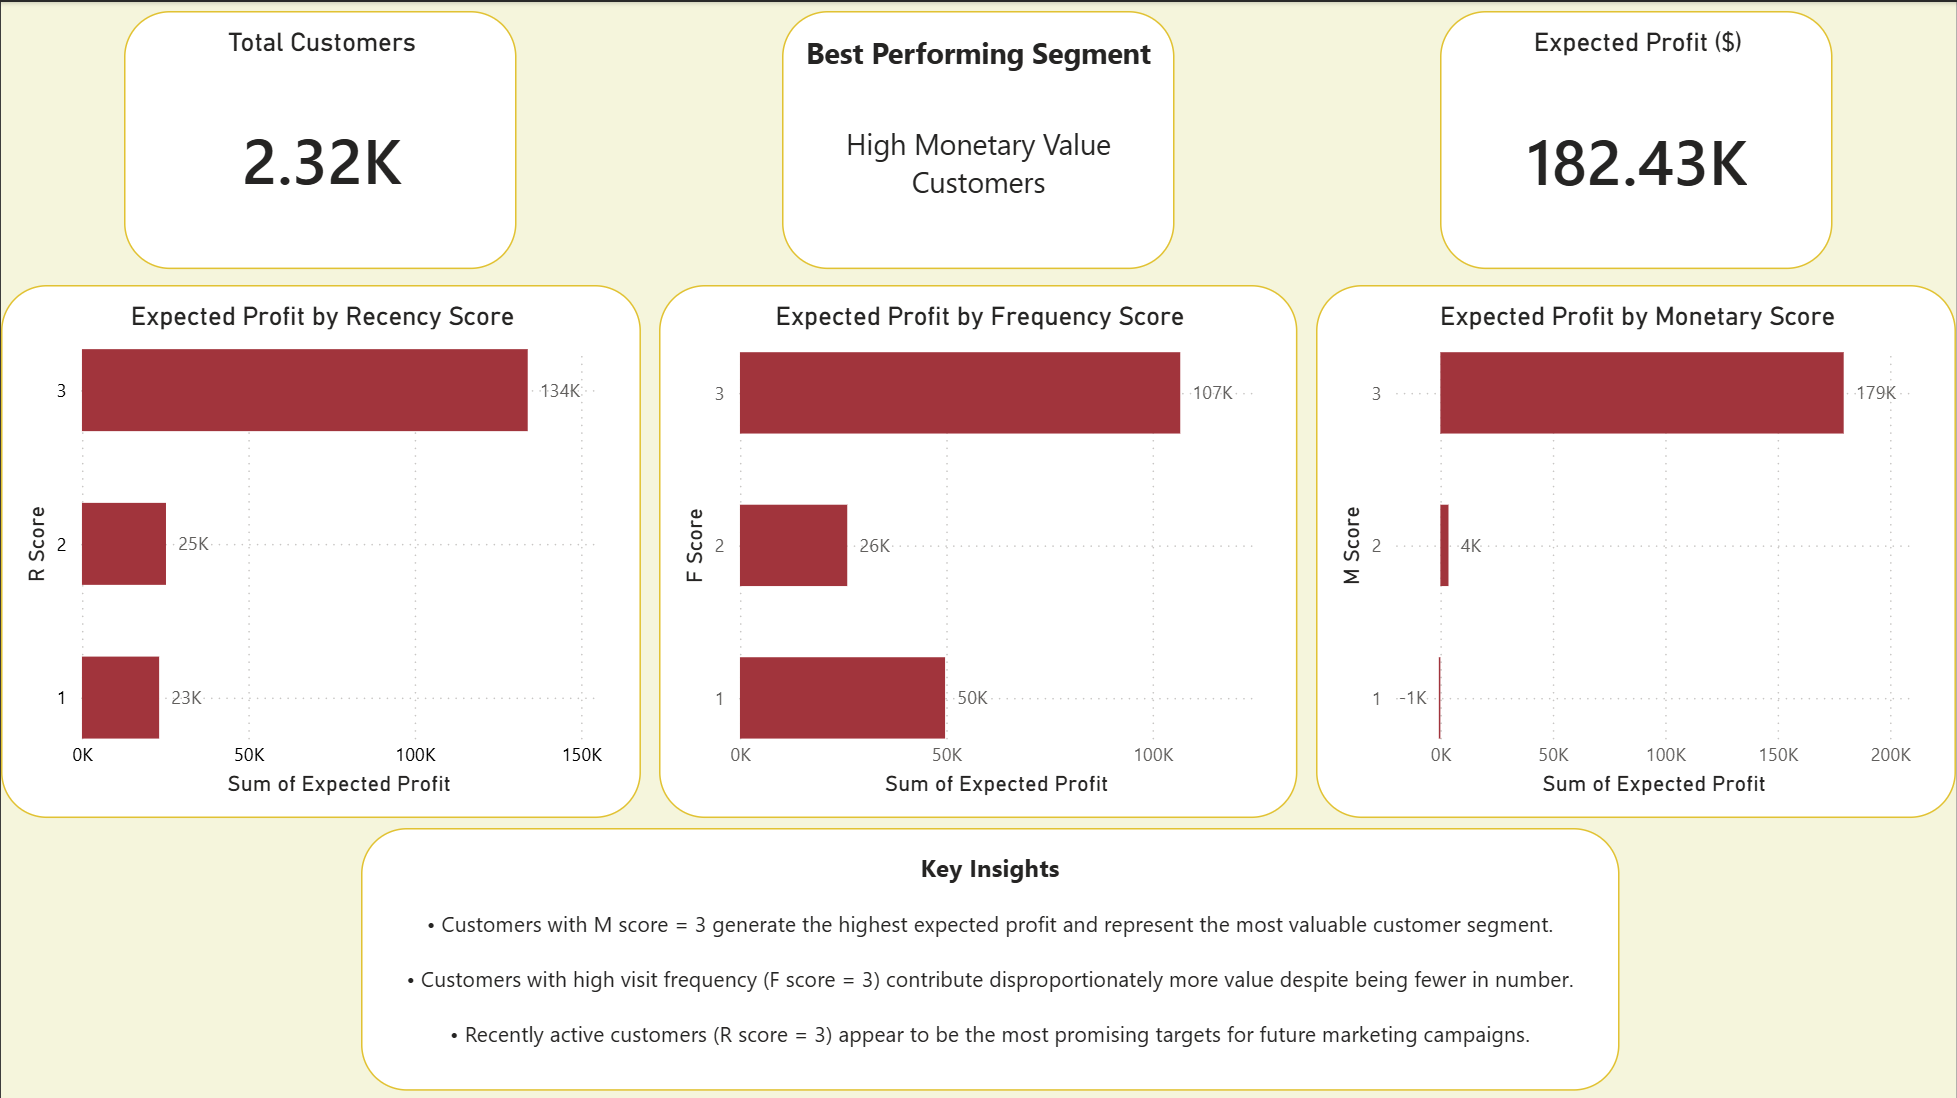

The page's visual inventory and layout, read from the dashboard file:
{"tool":"powerbi","page":{"name":"Page 1","canvas":[1280,720],"ordinal":0},"visuals":[{"type":"barChart","title":"Expected Profit by Recency Score","fields":{"Category":["RFM_Final.R_score"],"Y":["Sum(RFM_Final.Expected_profit)"]},"box":[0,185.3,419,349],"z":0},{"type":"barChart","title":"Expected Profit by Frequency Score","fields":{"Y":["Sum(RFM_Final.Expected_profit)"],"Category":["RFM_Final.F_score"]},"box":[430.8,185.3,418.4,349],"z":1000},{"type":"barChart","title":"Expected Profit by Monetary Score","fields":{"Y":["Sum(RFM_Final.Expected_profit)"],"Category":["RFM_Final.M_score"]},"box":[861,185.3,419,349],"z":2000},{"type":"cardVisual","title":"Total Customers","fields":{"Data":["Count(RFM_Final.Passport Number)"]},"box":[80.5,5.9,257.2,168.8],"z":3000},{"type":"cardVisual","title":"Expected Profit ($)","fields":{"Data":["Sum(RFM_Final.Expected_profit)"]},"box":[942.2,5.9,256.7,168.9],"z":4000},{"type":"textbox","box":[511.3,5.9,257.3,168.9],"z":5002},{"type":"textbox","box":[235.7,540.8,823.7,171.5],"z":5003}]}

Visuals, with their boxes in screenshot pixels (x1, y1, x2, y2), scaled from the page's 1280x720 canvas onto the 1957x1098 screenshot:
"Expected Profit by Recency Score" barChart: x1=0, y1=283, x2=641, y2=815
"Expected Profit by Frequency Score" barChart: x1=659, y1=283, x2=1298, y2=815
"Expected Profit by Monetary Score" barChart: x1=1316, y1=283, x2=1956, y2=815
"Total Customers" cardVisual: x1=123, y1=9, x2=516, y2=266
"Expected Profit ($)" cardVisual: x1=1441, y1=9, x2=1833, y2=267
textbox: x1=782, y1=9, x2=1175, y2=267
textbox: x1=360, y1=825, x2=1620, y2=1086
